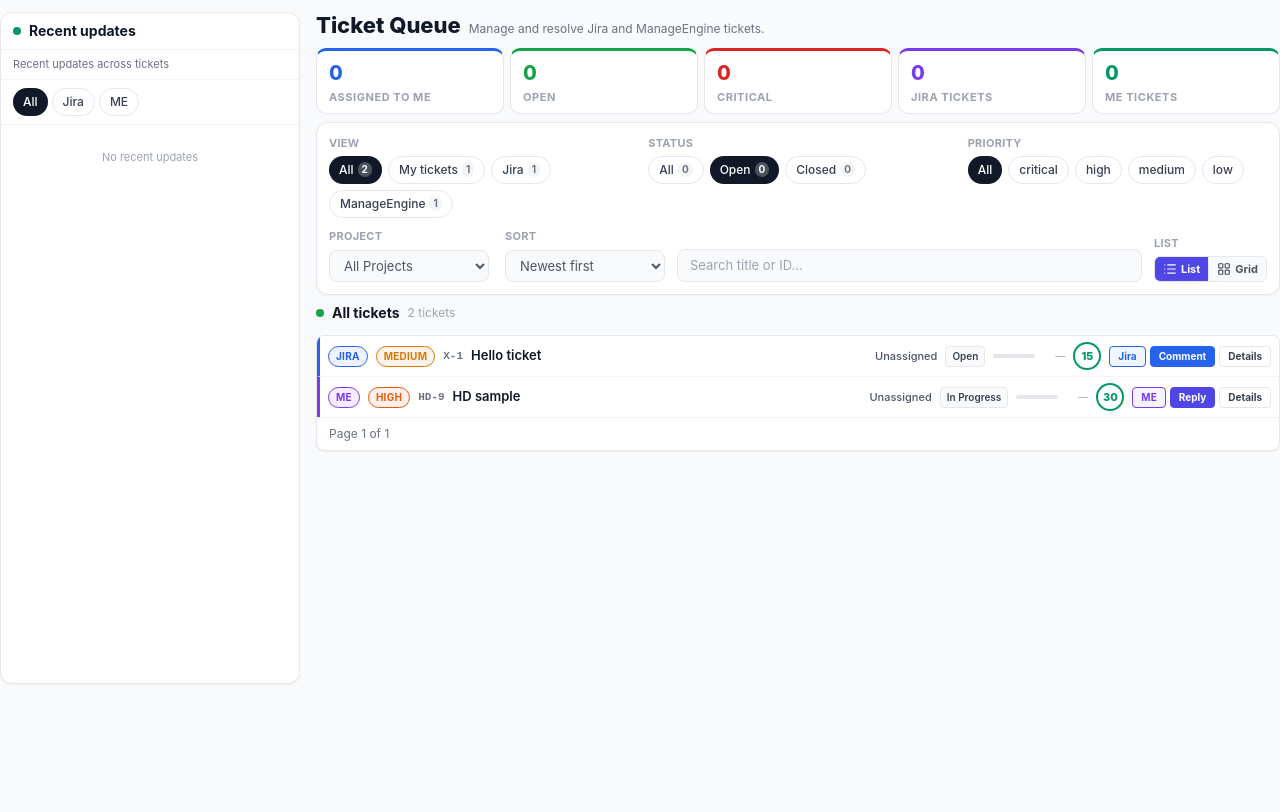
TechnicianTicketsView › switches to grid layout and shows richer card fields
Click the button "Grid" at [1237, 269], box [1208,256,1266,281]
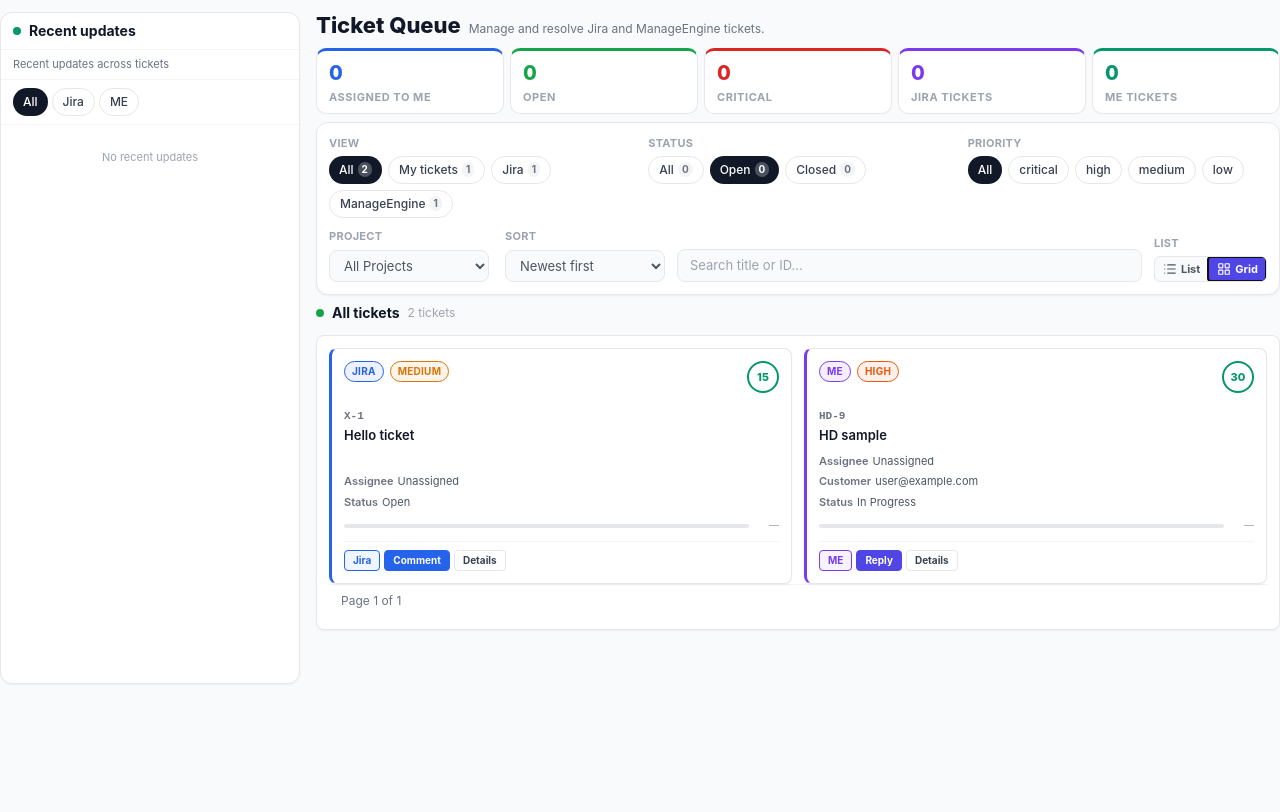
Expected: the text "Customer" is shown, [819,473,871,490]
Expected: the text "user@example.com" is shown, [875,473,978,490]
